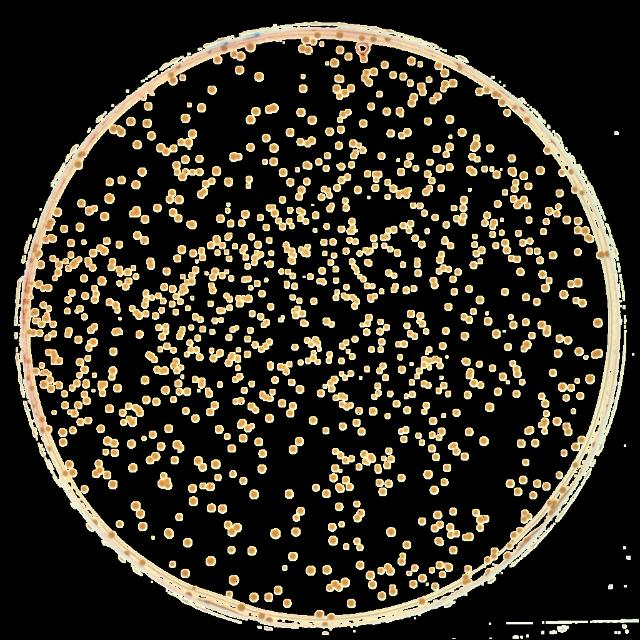colony: (104, 192, 115, 204), (196, 188, 208, 198), (434, 536, 444, 546), (505, 478, 515, 488), (585, 374, 595, 384), (386, 527, 396, 537), (282, 598, 292, 608), (306, 566, 316, 576), (188, 496, 198, 506), (212, 236, 222, 246), (132, 140, 142, 150), (246, 42, 256, 52), (254, 72, 264, 82), (406, 56, 416, 66), (109, 480, 118, 490), (142, 119, 152, 128), (117, 125, 125, 136), (237, 51, 246, 60), (518, 476, 528, 484), (572, 442, 580, 452), (558, 382, 566, 392), (461, 578, 471, 586), (408, 580, 418, 588), (367, 570, 375, 580), (348, 598, 356, 608), (315, 610, 323, 620), (229, 576, 239, 584), (165, 528, 173, 538), (272, 528, 280, 538), (218, 504, 226, 514), (132, 500, 140, 510), (68, 469, 78, 477), (110, 438, 118, 448), (198, 463, 208, 471), (254, 438, 264, 446), (592, 350, 602, 358), (38, 260, 46, 270), (98, 382, 108, 390), (113, 328, 123, 336), (405, 151, 415, 159), (100, 246, 110, 254), (492, 330, 500, 340), (560, 290, 568, 300), (578, 298, 586, 308), (574, 278, 582, 288), (584, 235, 594, 243), (245, 294, 253, 304), (278, 169, 288, 177), (317, 278, 327, 286), (126, 118, 136, 126), (181, 114, 191, 122), (188, 130, 198, 138), (212, 166, 220, 176), (507, 168, 517, 176), (468, 168, 478, 176), (246, 116, 256, 124), (269, 144, 279, 152), (296, 109, 306, 117), (334, 75, 344, 83), (340, 89, 350, 97), (324, 128, 334, 136), (302, 162, 312, 170), (440, 69, 450, 77), (366, 103, 376, 111), (382, 108, 392, 116), (351, 149, 359, 159), (423, 470, 432, 478), (418, 598, 427, 606), (207, 558, 216, 566), (250, 489, 258, 498), (189, 483, 197, 492), (258, 463, 266, 472), (336, 483, 344, 492), (266, 413, 274, 422), (449, 442, 458, 450), (384, 462, 392, 471), (76, 418, 84, 427), (109, 348, 118, 356), (206, 408, 214, 417), (574, 227, 582, 236), (574, 217, 582, 226), (109, 125, 117, 134), (230, 50, 238, 59), (197, 104, 206, 112), (157, 144, 166, 152), (424, 116, 432, 125), (329, 522, 336, 532), (112, 301, 119, 311), (175, 378, 182, 388), (168, 78, 178, 85), (230, 152, 237, 162), (482, 515, 490, 523), (472, 508, 480, 516), (449, 547, 457, 555), (514, 488, 522, 496), (534, 480, 542, 488), (542, 483, 550, 491), (559, 485, 567, 493), (576, 392, 584, 400), (562, 394, 570, 402), (430, 486, 438, 494), (440, 478, 448, 486), (436, 560, 444, 568), (439, 570, 447, 578), (404, 540, 412, 548), (378, 592, 386, 600), (356, 561, 364, 569), (341, 579, 349, 587), (332, 580, 340, 588), (326, 584, 334, 592), (274, 586, 282, 594), (250, 593, 258, 601), (323, 566, 331, 574), (289, 552, 297, 560), (226, 590, 234, 598), (182, 569, 190, 577), (249, 546, 257, 554), (228, 546, 236, 554), (292, 528, 300, 536), (292, 514, 300, 522), (329, 536, 337, 544), (354, 514, 362, 522), (335, 502, 343, 510), (323, 490, 331, 498), (208, 504, 216, 512), (206, 483, 214, 491), (240, 477, 248, 485), (259, 450, 267, 458), (289, 446, 297, 454), (296, 438, 304, 446), (309, 416, 317, 424), (116, 520, 124, 528), (139, 523, 147, 531), (137, 510, 145, 518), (160, 472, 168, 480), (330, 474, 338, 482), (186, 590, 194, 598), (93, 470, 101, 478), (95, 460, 103, 468), (129, 464, 137, 472), (65, 460, 73, 468), (62, 470, 70, 478), (59, 428, 67, 436), (69, 427, 77, 435), (45, 426, 53, 434), (38, 415, 46, 423), (128, 440, 136, 448), (152, 454, 160, 462), (156, 442, 164, 450), (149, 430, 157, 438), (173, 440, 181, 448), (170, 457, 178, 465), (194, 457, 202, 465), (213, 460, 221, 468), (239, 434, 247, 442), (216, 425, 224, 433), (398, 474, 406, 482), (384, 480, 392, 488), (376, 480, 384, 488), (531, 439, 539, 447), (562, 422, 570, 430), (549, 369, 557, 377), (594, 319, 602, 327), (554, 350, 562, 358), (480, 436, 488, 444), (466, 428, 474, 436), (461, 453, 469, 461), (322, 426, 330, 434), (353, 418, 361, 426), (402, 426, 410, 434), (438, 428, 446, 436), (452, 408, 460, 416), (485, 403, 493, 411), (429, 418, 437, 426), (238, 420, 246, 428), (61, 401, 69, 409), (132, 181, 140, 189), (118, 177, 126, 185), (140, 236, 148, 244), (44, 224, 52, 232), (49, 235, 57, 243), (43, 235, 51, 243), (31, 308, 39, 316), (76, 336, 84, 344), (56, 357, 64, 365), (82, 380, 90, 388), (136, 330, 144, 338), (142, 376, 150, 384), (142, 396, 150, 404), (286, 178, 294, 186), (166, 196, 174, 204), (170, 209, 178, 217), (188, 221, 196, 229), (161, 387, 169, 395), (210, 401, 218, 409), (510, 322, 518, 330), (439, 342, 447, 350), (340, 392, 348, 400), (316, 389, 324, 397), (296, 386, 304, 394), (282, 368, 290, 376), (378, 338, 386, 346), (407, 310, 415, 318), (416, 312, 424, 320), (418, 320, 426, 328), (444, 303, 452, 311), (476, 296, 484, 304), (522, 293, 530, 301), (542, 284, 550, 292), (539, 270, 547, 278), (516, 268, 524, 276), (536, 256, 544, 264), (549, 251, 557, 259), (574, 248, 582, 256), (597, 251, 605, 259), (582, 227, 590, 235), (563, 216, 571, 224), (545, 207, 553, 215), (553, 210, 561, 218), (556, 189, 564, 197), (558, 169, 566, 177), (536, 166, 544, 174), (543, 147, 551, 155), (508, 154, 516, 162), (520, 172, 528, 180), (524, 182, 532, 190), (209, 354, 217, 362), (244, 350, 252, 358), (262, 342, 270, 350), (168, 300, 176, 308), (160, 283, 168, 291), (169, 285, 177, 293), (188, 278, 196, 286), (188, 272, 196, 280), (192, 266, 200, 274), (218, 272, 226, 280), (248, 310, 256, 318), (270, 158, 278, 166), (224, 178, 232, 186), (217, 215, 225, 223), (242, 210, 250, 218), (266, 260, 274, 268), (163, 267, 171, 275), (173, 254, 181, 262), (178, 246, 186, 254), (189, 249, 197, 257), (225, 233, 233, 241), (254, 241, 262, 249), (302, 250, 310, 258), (320, 238, 328, 246), (258, 290, 266, 298), (292, 312, 300, 320), (74, 161, 82, 169), (148, 132, 156, 140), (144, 102, 152, 110), (214, 56, 222, 64), (236, 66, 244, 74), (208, 86, 216, 94), (162, 148, 170, 156), (170, 145, 178, 153), (185, 139, 193, 147), (174, 168, 182, 176), (179, 173, 187, 181), (196, 168, 204, 176), (182, 155, 190, 163), (202, 180, 210, 188), (271, 210, 279, 218), (286, 206, 294, 214), (312, 212, 320, 220), (337, 225, 345, 233), (364, 259, 372, 267), (402, 286, 410, 294), (450, 288, 458, 296), (465, 285, 473, 293), (454, 268, 462, 276), (469, 261, 477, 269), (472, 250, 480, 258), (478, 246, 486, 254), (492, 242, 500, 250), (501, 238, 509, 246), (490, 218, 498, 226), (514, 200, 522, 208), (494, 200, 502, 208), (466, 166, 474, 174), (247, 144, 255, 152), (252, 107, 260, 115), (270, 104, 278, 112), (262, 134, 270, 142), (286, 128, 294, 136), (299, 85, 307, 93), (298, 45, 306, 53), (305, 46, 313, 54), (302, 36, 310, 44), (309, 38, 317, 46), (314, 32, 322, 40), (336, 46, 344, 54), (331, 59, 339, 67), (380, 61, 388, 69), (370, 68, 378, 76), (360, 74, 368, 82), (365, 79, 373, 87), (347, 84, 355, 92), (308, 116, 316, 124), (296, 138, 304, 146), (303, 140, 311, 148), (308, 137, 316, 145), (303, 178, 311, 186), (297, 186, 305, 194), (318, 193, 326, 201), (342, 204, 350, 212), (354, 186, 362, 194), (371, 184, 379, 192), (364, 170, 372, 178), (384, 178, 392, 186), (389, 185, 397, 193), (397, 168, 405, 176), (404, 160, 412, 168), (436, 165, 444, 173), (424, 170, 432, 178), (428, 176, 436, 184), (435, 62, 443, 70), (449, 79, 457, 87), (486, 144, 494, 152), (394, 249, 402, 257), (442, 221, 450, 229), (460, 195, 468, 203), (369, 234, 377, 242), (337, 176, 345, 184), (336, 163, 344, 171), (335, 142, 343, 150), (337, 126, 345, 134), (359, 120, 367, 128), (396, 108, 404, 116), (387, 129, 395, 137), (377, 152, 385, 160), (446, 163, 454, 171), (458, 129, 466, 137), (398, 132, 406, 140), (446, 115, 454, 123), (433, 145, 441, 153), (183, 540, 193, 546), (102, 213, 108, 223), (146, 264, 156, 270), (294, 194, 304, 200), (372, 171, 382, 177), (442, 235, 448, 245), (454, 530, 461, 538), (419, 574, 426, 582), (233, 524, 240, 532), (312, 484, 320, 491), (165, 482, 172, 490), (346, 484, 354, 491), (165, 425, 172, 433), (178, 446, 185, 454), (379, 488, 386, 496), (356, 464, 364, 471), (339, 422, 346, 430), (138, 168, 146, 175), (106, 180, 114, 187), (54, 209, 61, 217), (41, 380, 48, 388), (369, 408, 376, 416), (98, 276, 105, 284), (168, 190, 176, 197), (152, 399, 160, 406), (504, 344, 512, 351), (230, 352, 237, 360), (348, 354, 356, 361), (542, 218, 550, 225), (554, 203, 562, 210), (526, 238, 534, 245), (216, 349, 224, 356), (196, 354, 204, 361), (188, 346, 195, 354), (186, 339, 194, 346), (228, 220, 235, 228), (238, 220, 246, 227), (262, 223, 270, 230), (198, 248, 206, 255), (208, 241, 215, 249), (220, 242, 227, 250), (300, 319, 308, 326), (178, 138, 185, 146), (208, 178, 216, 185), (329, 238, 336, 246), (513, 255, 521, 262), (503, 248, 511, 255), (510, 195, 518, 202), (520, 195, 528, 202), (494, 170, 501, 178), (344, 52, 352, 59), (369, 36, 376, 44), (339, 110, 346, 118), (422, 190, 430, 197), (429, 96, 436, 104), (458, 220, 466, 227), (431, 213, 439, 220), (386, 245, 394, 252), (348, 218, 356, 225), (334, 184, 341, 192), (322, 165, 330, 172), (399, 72, 406, 80), (349, 139, 356, 147), (359, 146, 366, 154), (474, 134, 481, 142), (404, 129, 411, 137), (286, 489, 292, 498), (358, 429, 367, 435), (267, 362, 273, 371), (217, 308, 226, 314), (413, 270, 422, 276), (409, 94, 418, 100), (215, 474, 222, 481), (225, 334, 232, 341), (344, 173, 351, 180), (477, 526, 485, 532), (468, 534, 474, 542), (463, 533, 469, 541), (450, 508, 458, 514), (446, 524, 454, 530), (448, 532, 454, 540), (418, 519, 426, 525), (434, 512, 442, 518), (436, 521, 444, 527), (484, 558, 492, 564), (510, 531, 518, 537), (530, 492, 538, 498), (561, 450, 567, 458), (578, 435, 584, 443), (568, 384, 574, 392), (444, 464, 452, 470), (446, 563, 452, 571), (432, 582, 438, 590), (398, 558, 406, 564), (390, 590, 398, 596), (369, 582, 377, 588), (378, 568, 386, 574), (388, 568, 394, 576), (337, 584, 343, 592), (328, 612, 334, 620), (322, 620, 330, 626), (266, 593, 272, 601), (239, 603, 245, 611), (168, 561, 176, 567), (228, 530, 236, 536), (296, 508, 304, 514), (344, 542, 350, 550), (356, 510, 364, 516), (352, 501, 360, 507), (230, 470, 236, 478), (159, 480, 165, 488), (82, 485, 88, 493), (60, 438, 66, 446), (104, 436, 110, 444), (146, 457, 154, 463), (228, 445, 236, 451), (518, 439, 524, 447), (526, 428, 534, 434), (566, 428, 572, 436), (554, 417, 560, 425), (542, 418, 548, 426), (566, 337, 572, 345), (555, 336, 563, 342), (432, 454, 440, 460), (368, 456, 376, 462), (360, 451, 368, 457), (362, 459, 370, 465), (389, 455, 395, 463), (342, 458, 350, 464), (336, 452, 344, 458), (72, 410, 78, 418), (76, 402, 82, 410), (83, 398, 91, 404), (80, 392, 88, 398), (106, 406, 114, 412), (125, 401, 131, 409), (329, 320, 335, 328), (76, 224, 84, 230), (116, 242, 124, 248), (134, 232, 142, 238), (142, 216, 148, 224), (130, 210, 136, 218), (155, 204, 161, 212), (86, 207, 92, 215), (78, 199, 84, 207), (62, 224, 68, 232), (68, 240, 74, 248), (48, 219, 56, 225), (45, 283, 51, 291), (46, 304, 52, 312), (32, 318, 40, 324), (31, 328, 37, 336), (48, 385, 54, 393), (62, 390, 68, 398), (74, 381, 80, 389), (35, 251, 43, 257), (68, 250, 74, 258), (72, 260, 78, 268), (64, 297, 72, 303), (109, 368, 117, 374), (80, 367, 88, 373), (76, 358, 84, 364), (90, 339, 98, 345), (119, 410, 127, 416), (130, 419, 136, 427), (422, 402, 430, 408), (508, 361, 516, 367), (500, 373, 506, 381), (478, 382, 484, 390), (470, 380, 478, 386), (440, 382, 448, 388), (410, 390, 416, 398), (392, 401, 400, 407), (398, 367, 406, 373), (175, 196, 181, 204), (174, 215, 182, 221), (106, 298, 112, 306), (136, 314, 144, 320), (160, 368, 168, 374), (170, 397, 178, 403), (183, 408, 189, 416), (176, 388, 182, 396), (183, 388, 191, 394), (192, 414, 198, 422), (206, 392, 214, 398), (199, 379, 205, 387), (288, 410, 294, 418), (538, 321, 544, 329), (524, 341, 532, 347), (520, 346, 526, 354), (486, 318, 492, 326), (462, 332, 468, 340), (441, 328, 449, 334), (357, 408, 363, 416), (238, 372, 244, 380), (266, 396, 274, 402), (326, 351, 334, 357), (338, 358, 346, 364), (339, 342, 345, 350), (369, 346, 375, 354), (378, 346, 384, 354), (402, 340, 408, 348), (407, 330, 413, 338), (412, 332, 418, 340), (466, 316, 472, 324), (502, 288, 508, 296), (534, 298, 540, 306), (573, 296, 579, 304), (568, 280, 574, 288), (605, 250, 611, 258), (572, 186, 578, 194), (526, 216, 532, 224), (520, 239, 526, 247), (194, 346, 200, 354), (195, 334, 201, 342), (266, 338, 272, 346), (244, 336, 252, 342), (246, 328, 254, 334), (172, 294, 180, 300), (211, 268, 219, 274), (236, 301, 244, 307), (241, 294, 247, 302), (257, 213, 263, 221), (266, 236, 272, 244), (244, 264, 252, 270), (147, 258, 155, 264), (282, 241, 290, 247), (288, 252, 296, 258), (288, 258, 296, 264), (264, 318, 270, 326), (284, 280, 290, 288), (292, 282, 298, 290), (306, 274, 314, 280), (310, 298, 318, 304), (300, 310, 306, 318), (311, 336, 319, 342), (167, 72, 175, 78), (220, 46, 228, 52), (172, 162, 180, 168), (183, 168, 189, 176), (195, 156, 203, 162), (280, 196, 286, 204), (266, 204, 272, 212), (288, 223, 296, 229), (297, 214, 303, 222), (302, 219, 310, 225), (318, 268, 326, 274), (332, 266, 340, 272), (368, 295, 374, 303), (384, 270, 392, 276), (390, 287, 398, 293), (410, 285, 418, 291), (430, 283, 438, 289), (483, 212, 491, 218), (502, 188, 508, 196), (512, 179, 520, 185), (236, 153, 242, 161), (265, 106, 271, 114), (359, 56, 367, 62), (362, 69, 370, 75), (333, 86, 341, 92), (336, 92, 342, 100), (344, 110, 352, 116), (336, 117, 344, 123), (384, 194, 392, 200), (402, 192, 410, 198), (412, 164, 418, 172), (427, 158, 433, 166), (438, 184, 444, 192), (442, 80, 450, 86), (433, 94, 441, 100), (476, 88, 482, 96), (524, 116, 530, 124), (440, 265, 446, 273), (446, 265, 452, 273), (438, 252, 446, 258), (418, 242, 426, 248), (460, 206, 468, 212), (412, 234, 418, 242), (316, 158, 322, 166), (324, 152, 332, 158), (347, 162, 355, 168), (376, 90, 382, 98), (406, 80, 414, 86), (419, 90, 427, 96), (408, 101, 416, 107), (468, 154, 476, 160), (470, 145, 478, 151), (472, 142, 480, 148), (445, 144, 453, 150), (442, 152, 450, 158), (429, 567, 436, 573), (175, 514, 182, 520), (105, 472, 112, 478), (112, 449, 118, 456), (429, 446, 436, 452), (245, 426, 252, 432), (114, 384, 120, 391), (104, 238, 110, 245), (49, 321, 56, 327), (51, 349, 58, 355), (125, 269, 132, 275), (88, 250, 95, 256), (155, 324, 161, 331), (160, 334, 167, 340), (277, 364, 283, 371), (404, 323, 411, 329), (469, 309, 476, 315), (579, 190, 585, 197), (515, 230, 521, 237), (526, 248, 532, 255), (178, 330, 185, 336), (180, 283, 187, 289), (210, 288, 217, 294), (210, 274, 217, 280), (245, 176, 252, 182), (248, 233, 254, 240), (225, 256, 232, 262), (200, 255, 207, 261), (180, 75, 187, 81), (190, 169, 197, 175), (280, 223, 286, 230), (296, 208, 302, 215), (323, 223, 329, 230), (449, 276, 456, 282), (489, 232, 496, 238), (482, 220, 488, 227), (489, 224, 496, 230), (534, 248, 540, 255), (512, 185, 518, 192), (482, 165, 488, 172), (342, 198, 348, 205), (439, 86, 446, 92), (499, 100, 506, 106), (504, 110, 511, 116), (399, 223, 406, 229), (343, 248, 349, 255), (353, 238, 359, 245), (376, 464, 380, 474), (466, 565, 472, 571), (476, 516, 482, 522), (432, 526, 438, 532), (504, 553, 510, 559), (522, 516, 528, 522), (523, 458, 529, 464), (556, 472, 562, 478), (573, 462, 579, 468), (548, 510, 554, 516), (412, 564, 418, 570), (406, 570, 412, 576), (400, 552, 406, 558), (266, 616, 272, 622), (258, 612, 264, 618), (225, 522, 231, 528), (339, 521, 345, 527), (200, 483, 206, 489), (139, 560, 145, 566), (110, 532, 116, 538), (332, 466, 338, 472), (342, 477, 348, 483), (94, 518, 100, 524), (40, 428, 46, 434), (103, 449, 109, 455), (98, 426, 104, 432), (224, 434, 230, 440), (542, 428, 548, 434), (544, 410, 550, 416), (539, 392, 545, 398), (543, 400, 549, 406), (576, 348, 582, 354), (454, 450, 460, 456), (387, 448, 393, 454), (350, 456, 356, 462), (333, 448, 339, 454), (402, 437, 408, 443), (416, 433, 422, 439), (420, 440, 426, 446), (435, 435, 441, 441), (86, 418, 92, 424), (100, 390, 106, 396), (323, 318, 329, 324), (366, 314, 372, 320), (365, 320, 371, 326), (364, 329, 370, 335), (384, 325, 390, 331), (378, 328, 384, 334), (134, 205, 140, 211), (134, 212, 140, 218), (40, 284, 46, 290), (40, 302, 46, 308), (26, 329, 32, 335), (52, 331, 58, 337), (44, 335, 50, 341), (66, 326, 72, 332), (46, 350, 52, 356), (51, 358, 57, 364), (39, 362, 45, 368), (33, 368, 39, 374), (46, 372, 52, 378), (57, 382, 63, 388), (70, 386, 76, 392), (57, 261, 63, 267), (56, 268, 62, 274), (82, 276, 88, 282), (78, 306, 84, 312), (81, 314, 87, 320), (77, 372, 83, 378), (85, 355, 91, 361), (86, 346, 92, 352), (93, 324, 99, 330), (148, 354, 154, 360), (121, 420, 127, 426), (138, 412, 144, 418), (404, 407, 410, 413), (465, 392, 471, 398), (495, 388, 501, 394), (513, 391, 519, 397), (520, 380, 526, 386), (490, 365, 496, 371), (466, 368, 472, 374), (446, 390, 452, 396), (436, 388, 442, 394), (376, 390, 382, 396), (382, 374, 388, 380), (83, 293, 89, 299), (123, 284, 129, 290), (125, 278, 131, 284), (134, 273, 140, 279), (116, 266, 122, 272), (109, 264, 115, 270), (90, 264, 96, 270), (96, 244, 102, 250), (134, 310, 140, 316), (153, 312, 159, 318), (163, 329, 169, 335), (178, 364, 184, 370), (174, 368, 180, 374), (218, 381, 224, 387), (192, 376, 198, 382), (238, 398, 244, 404), (290, 403, 296, 409), (544, 330, 550, 336), (529, 332, 535, 338), (523, 318, 529, 324), (432, 357, 438, 363), (380, 363, 386, 369), (340, 402, 346, 408), (334, 395, 340, 401), (348, 370, 354, 376), (342, 375, 348, 381), (332, 376, 338, 382), (288, 378, 294, 384), (272, 377, 278, 383), (248, 380, 254, 386), (242, 388, 248, 394), (226, 359, 232, 365), (260, 392, 266, 398), (286, 361, 292, 367), (281, 364, 287, 370), (292, 344, 298, 350), (298, 359, 304, 365), (305, 358, 311, 364), (310, 356, 316, 362), (315, 359, 321, 365), (311, 350, 317, 356), (326, 358, 332, 364), (343, 340, 349, 346), (352, 336, 358, 342), (395, 341, 401, 347), (423, 329, 429, 335), (461, 314, 467, 320), (546, 278, 552, 284), (540, 229, 546, 235), (568, 169, 574, 175), (524, 203, 530, 209), (208, 348, 214, 354), (184, 351, 190, 357), (177, 334, 183, 340), (179, 326, 185, 332), (188, 325, 194, 331), (200, 326, 206, 332), (210, 329, 216, 335), (259, 346, 265, 352), (252, 342, 258, 348), (230, 327, 236, 333), (218, 317, 224, 323), (212, 318, 218, 324), (192, 314, 198, 320), (198, 317, 204, 323), (208, 301, 214, 307), (185, 305, 191, 311), (177, 299, 183, 305), (178, 290, 184, 296), (182, 288, 188, 294), (228, 275, 234, 281), (224, 293, 230, 299), (227, 296, 233, 302), (227, 305, 233, 311), (235, 295, 241, 301), (258, 314, 264, 320), (262, 159, 268, 165), (246, 183, 252, 189), (268, 250, 274, 256), (278, 269, 284, 275), (290, 273, 296, 279), (252, 260, 258, 266), (243, 254, 249, 260), (240, 248, 246, 254), (242, 244, 248, 250), (232, 243, 238, 249), (215, 250, 221, 256), (289, 248, 295, 254), (305, 244, 311, 250), (298, 247, 304, 253), (261, 322, 267, 328), (268, 304, 274, 310), (246, 276, 252, 282), (254, 281, 260, 287), (290, 294, 296, 300), (296, 298, 302, 304), (304, 337, 310, 343), (309, 342, 315, 348), (316, 346, 322, 352), (333, 278, 339, 284), (344, 284, 350, 290), (340, 292, 346, 298), (354, 298, 360, 304), (352, 304, 358, 310), (186, 102, 192, 108), (275, 218, 281, 224), (286, 218, 292, 224), (300, 209, 306, 215), (312, 228, 318, 234), (328, 260, 334, 266), (372, 293, 378, 299), (378, 288, 384, 294), (370, 283, 376, 289), (364, 283, 370, 289), (360, 276, 366, 282), (349, 259, 355, 265), (331, 253, 337, 259), (392, 283, 398, 289), (477, 258, 483, 264), (472, 242, 478, 248), (508, 256, 514, 262), (499, 230, 505, 236), (359, 35, 365, 41), (384, 36, 390, 42), (294, 166, 300, 172), (396, 192, 402, 198), (426, 185, 432, 191), (390, 72, 396, 78), (418, 62, 424, 68), (484, 88, 490, 94), (492, 92, 498, 98), (512, 104, 518, 110), (436, 257, 442, 263), (447, 243, 453, 249), (415, 256, 421, 262), (415, 262, 421, 268), (400, 262, 406, 268), (454, 216, 460, 222), (461, 214, 467, 220), (422, 210, 428, 216), (410, 202, 416, 208), (407, 221, 413, 227), (406, 228, 412, 234), (384, 234, 390, 240), (380, 235, 386, 241), (372, 243, 378, 249), (368, 248, 374, 254), (357, 250, 363, 256), (346, 237, 352, 243), (350, 224, 356, 230), (320, 186, 326, 192), (426, 77, 432, 83), (418, 84, 424, 90), (475, 156, 481, 162), (550, 506, 558, 510), (554, 498, 558, 506), (108, 374, 116, 378), (466, 375, 474, 379), (164, 342, 168, 350), (378, 366, 382, 374), (280, 400, 284, 408), (264, 394, 268, 402), (184, 278, 188, 286), (208, 283, 216, 287), (429, 278, 437, 282), (326, 208, 334, 212), (434, 270, 442, 274), (51, 256, 58, 260), (392, 225, 396, 232), (492, 548, 498, 552), (492, 555, 498, 559), (508, 544, 512, 550), (517, 528, 523, 532), (521, 510, 527, 514), (546, 500, 552, 504), (572, 408, 576, 414), (576, 378, 580, 384), (462, 574, 468, 578), (390, 584, 396, 588), (282, 565, 288, 569), (358, 546, 364, 550), (354, 540, 360, 544), (192, 586, 198, 590), (98, 468, 104, 472), (46, 446, 52, 450), (538, 423, 544, 427), (430, 432, 434, 438), (251, 422, 255, 428), (92, 206, 98, 210), (378, 319, 382, 325), (36, 282, 40, 288), (30, 313, 36, 317), (44, 318, 50, 322), (38, 322, 44, 326), (38, 330, 42, 336), (65, 334, 71, 338), (40, 372, 46, 376), (48, 378, 54, 382), (52, 275, 56, 281), (66, 265, 70, 271), (70, 289, 74, 295), (88, 328, 94, 332), (152, 359, 158, 363), (386, 412, 390, 418), (421, 409, 427, 413), (514, 366, 520, 370), (477, 362, 483, 366), (466, 359, 470, 365), (427, 382, 431, 388), (422, 380, 426, 386), (375, 382, 379, 388), (371, 394, 377, 398), (93, 286, 97, 292), (94, 293, 100, 297), (92, 298, 98, 302), (132, 264, 136, 270), (118, 272, 124, 276), (130, 306, 136, 310), (144, 310, 148, 316), (160, 308, 166, 312), (142, 303, 148, 307), (144, 290, 148, 296), (156, 294, 162, 298), (174, 309, 178, 315), (158, 347, 162, 353), (170, 348, 176, 352), (154, 366, 158, 372), (173, 359, 179, 363), (170, 364, 176, 368), (249, 404, 253, 410), (508, 314, 514, 318), (428, 347, 432, 353), (398, 354, 402, 360), (416, 368, 422, 372), (422, 364, 428, 368), (422, 356, 426, 362), (436, 358, 442, 362), (365, 365, 369, 371), (350, 402, 354, 408), (345, 403, 349, 409), (329, 380, 333, 386), (270, 388, 274, 394), (233, 378, 239, 382), (237, 355, 241, 361), (416, 320, 422, 324), (236, 348, 242, 352), (234, 326, 240, 330), (180, 274, 186, 278), (226, 208, 230, 214), (286, 269, 290, 275), (254, 250, 258, 256), (258, 252, 264, 256), (224, 250, 230, 254), (284, 248, 290, 252), (278, 318, 284, 322), (242, 277, 246, 283), (248, 286, 254, 290), (294, 306, 300, 310), (334, 290, 340, 294), (333, 296, 339, 300), (344, 294, 348, 300), (350, 294, 354, 300), (352, 296, 356, 302), (272, 204, 276, 210), (322, 252, 328, 256), (354, 270, 360, 274), (352, 266, 358, 270), (391, 274, 397, 278), (472, 234, 478, 238), (490, 166, 494, 172), (300, 74, 306, 78), (320, 41, 324, 47), (336, 34, 342, 38), (326, 194, 332, 198), (373, 178, 379, 182), (406, 188, 412, 192), (424, 229, 430, 233), (451, 206, 457, 210), (418, 203, 422, 209), (382, 243, 386, 249), (363, 248, 369, 252), (348, 230, 354, 234), (325, 188, 331, 192), (356, 144, 362, 148), (381, 456, 387, 459), (126, 416, 132, 419), (386, 564, 390, 568), (166, 478, 170, 482), (52, 410, 56, 414), (142, 436, 146, 440), (584, 355, 588, 359), (399, 429, 403, 433), (68, 410, 72, 414), (82, 240, 86, 244), (45, 313, 49, 317), (48, 334, 52, 338), (44, 370, 48, 374), (64, 258, 68, 262), (66, 310, 70, 314), (75, 310, 79, 314), (93, 373, 97, 377), (147, 351, 151, 355), (516, 372, 520, 376), (462, 358, 466, 362), (388, 392, 392, 396), (110, 259, 114, 263), (87, 261, 91, 265), (86, 258, 90, 262), (144, 298, 148, 302), (150, 296, 154, 300), (162, 298, 166, 302), (164, 324, 168, 328), (234, 399, 238, 403), (254, 408, 258, 412), (546, 326, 550, 330), (438, 364, 442, 368), (409, 380, 413, 384), (416, 374, 420, 378), (428, 364, 432, 368), (428, 358, 432, 362), (330, 387, 334, 391), (324, 384, 328, 388), (237, 365, 241, 369), (346, 349, 350, 353), (190, 296, 194, 300), (205, 272, 209, 276), (224, 270, 228, 274), (226, 203, 230, 207), (252, 256, 256, 260), (281, 315, 285, 319), (264, 278, 268, 282), (292, 309, 296, 313), (316, 342, 320, 346), (187, 146, 191, 150), (358, 274, 362, 278), (468, 188, 472, 192), (330, 203, 334, 207), (386, 228, 390, 232), (341, 468, 344, 472), (125, 552, 131, 554), (78, 256, 80, 262), (207, 387, 210, 391), (501, 217, 504, 221), (396, 158, 399, 162), (506, 381, 509, 384), (441, 376, 444, 379), (528, 514, 530, 518), (443, 414, 445, 418), (91, 390, 95, 392), (361, 324, 365, 326), (136, 405, 138, 409), (406, 394, 408, 398), (118, 281, 120, 285), (116, 310, 120, 312), (485, 312, 489, 314), (340, 371, 342, 375), (196, 260, 198, 264), (326, 62, 328, 66), (448, 136, 452, 138), (425, 351, 427, 354), (312, 202, 314, 205), (368, 197, 370, 200), (152, 537, 154, 539), (182, 376, 184, 378), (198, 390, 200, 392), (446, 356, 448, 358), (410, 363, 412, 365), (359, 376, 361, 378), (303, 276, 305, 278), (500, 169, 502, 171), (119, 318, 121, 318)
